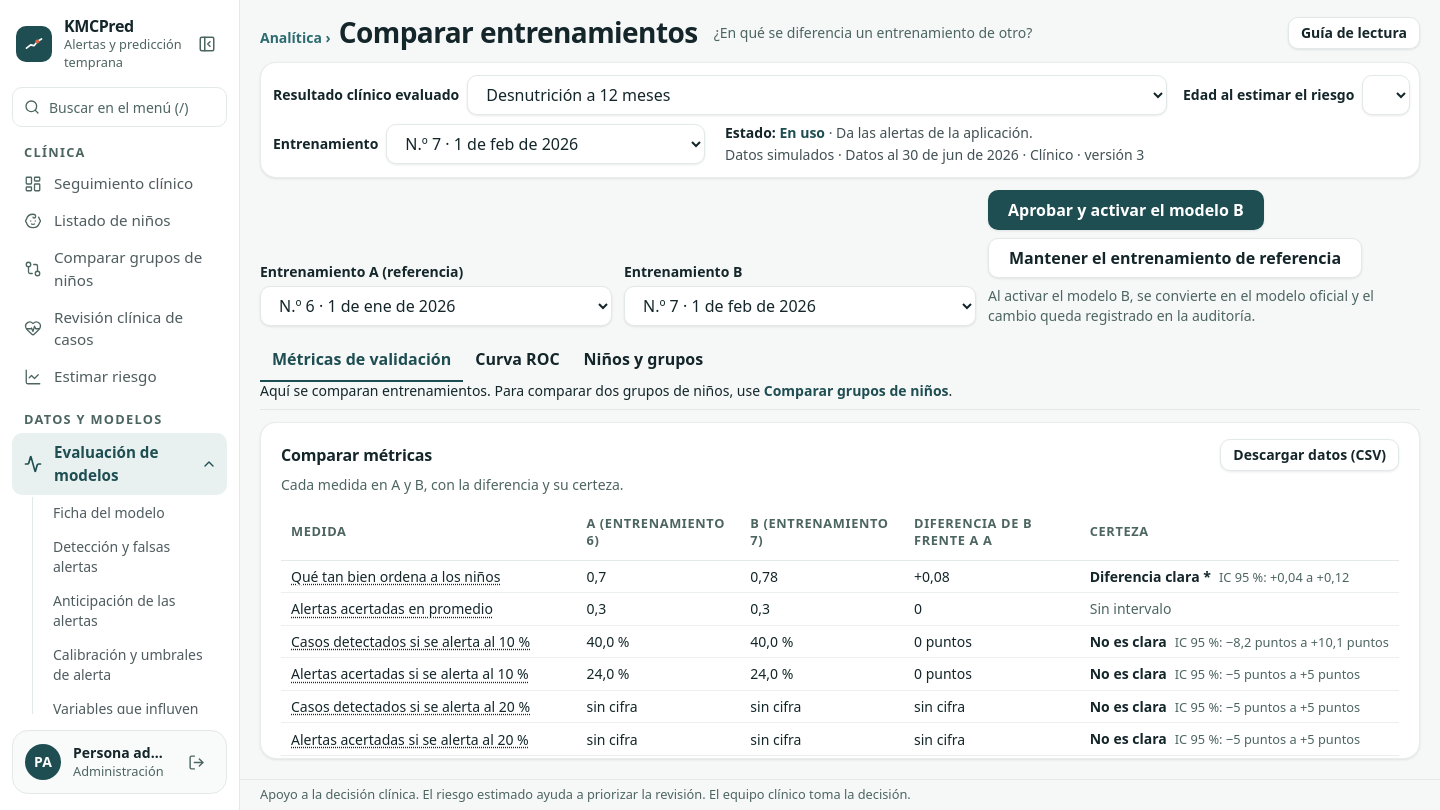
it: comparar entrenamientos: intervalos y Aprobar B › el administrador aprueba B con confirmación: usa /entrenamientos/aprobar con la versión de B y las anomalías vigentes
The width and height of the screenshot is (1440, 810).
Click the button "Aprobar y activar el modelo B": (1126, 210) [988,190,1264,230]
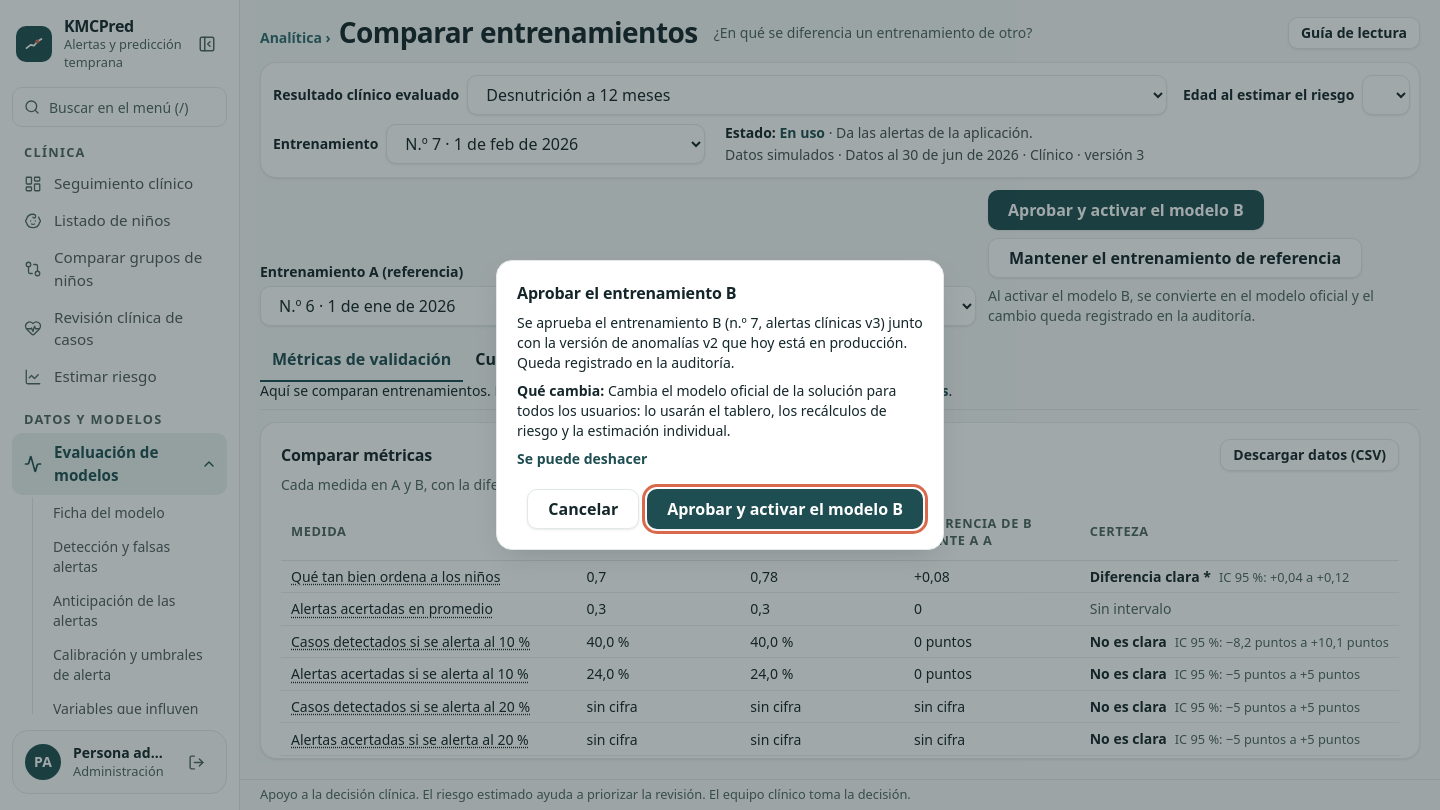
Check: the dialog shows "alertas clínicas v3", box [517,313,923,372]
Check: the dialog shows "anomalías v2", box [517,313,923,372]
Check: the dialog shows "para todos los usuarios", box [517,381,896,440]
Click the button "Aprobar y activar el modelo B": (785, 509) [647,489,923,529]
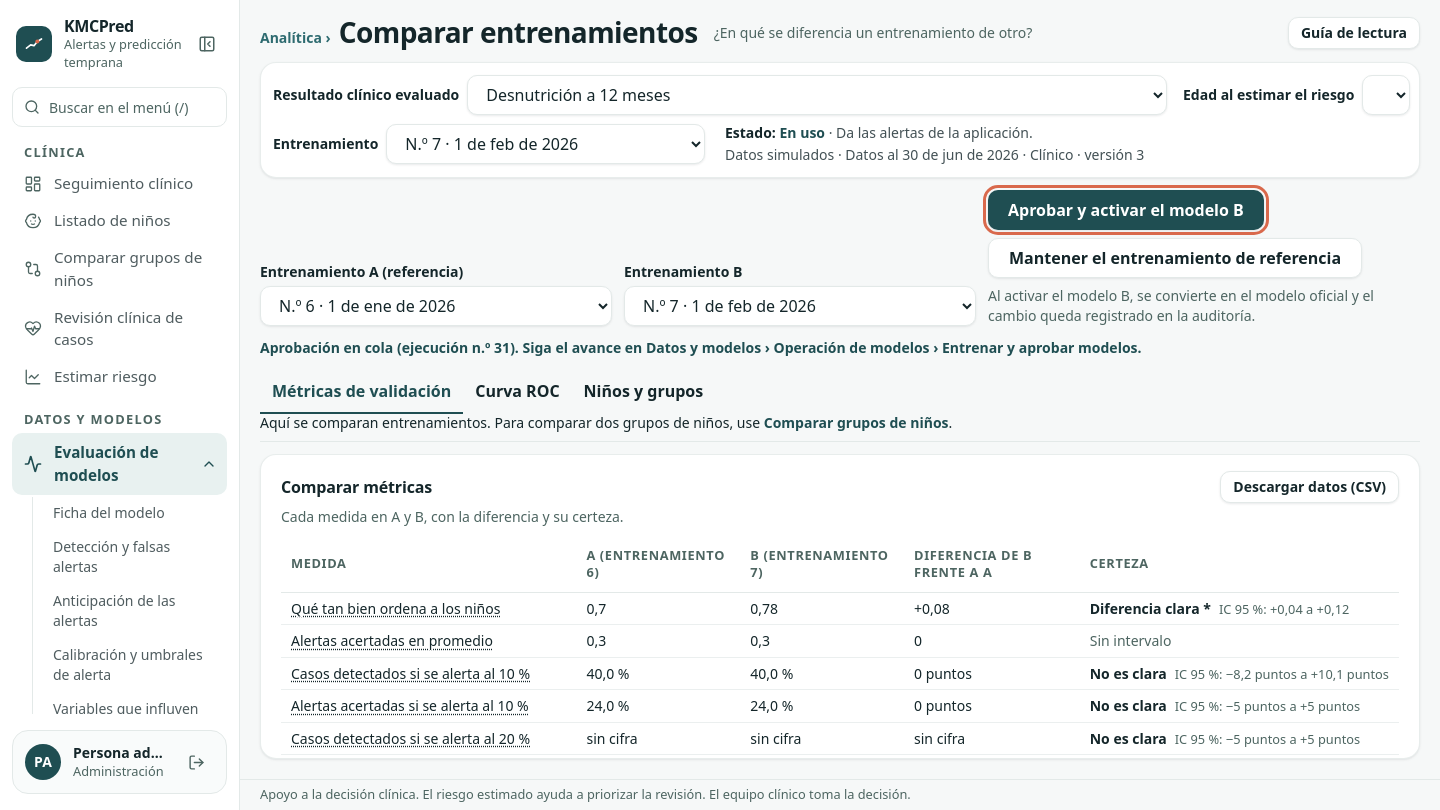
Check: the text "Aprobación en cola (ejecución n.º 31)" is shown, box [260,338,1142,357]
